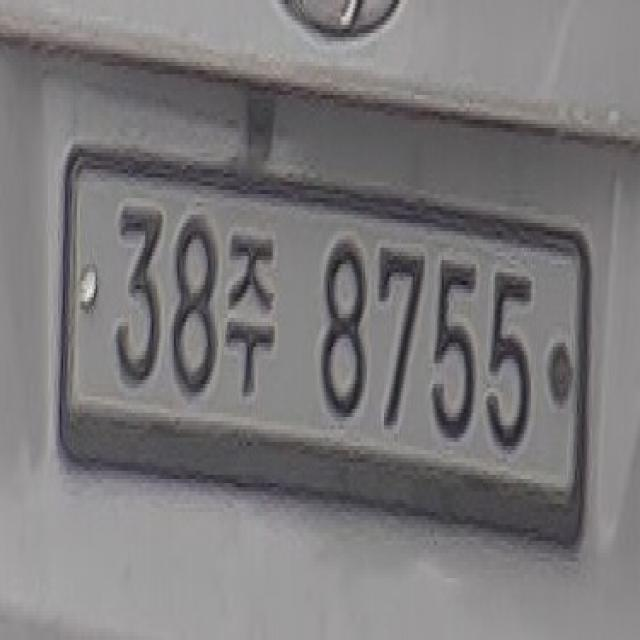3: (116, 194, 164, 388)
5: (481, 252, 534, 454), (430, 248, 478, 442)
7: (374, 235, 423, 426)
8: (317, 227, 368, 421), (169, 206, 218, 396)
ju: (224, 223, 278, 396)
license_plate: (63, 149, 589, 516)
